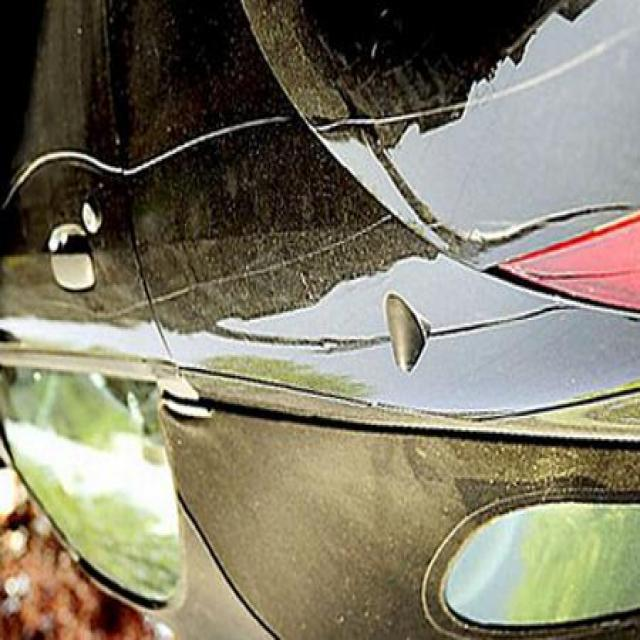scratch: (0, 107, 297, 216), (306, 83, 467, 144)
